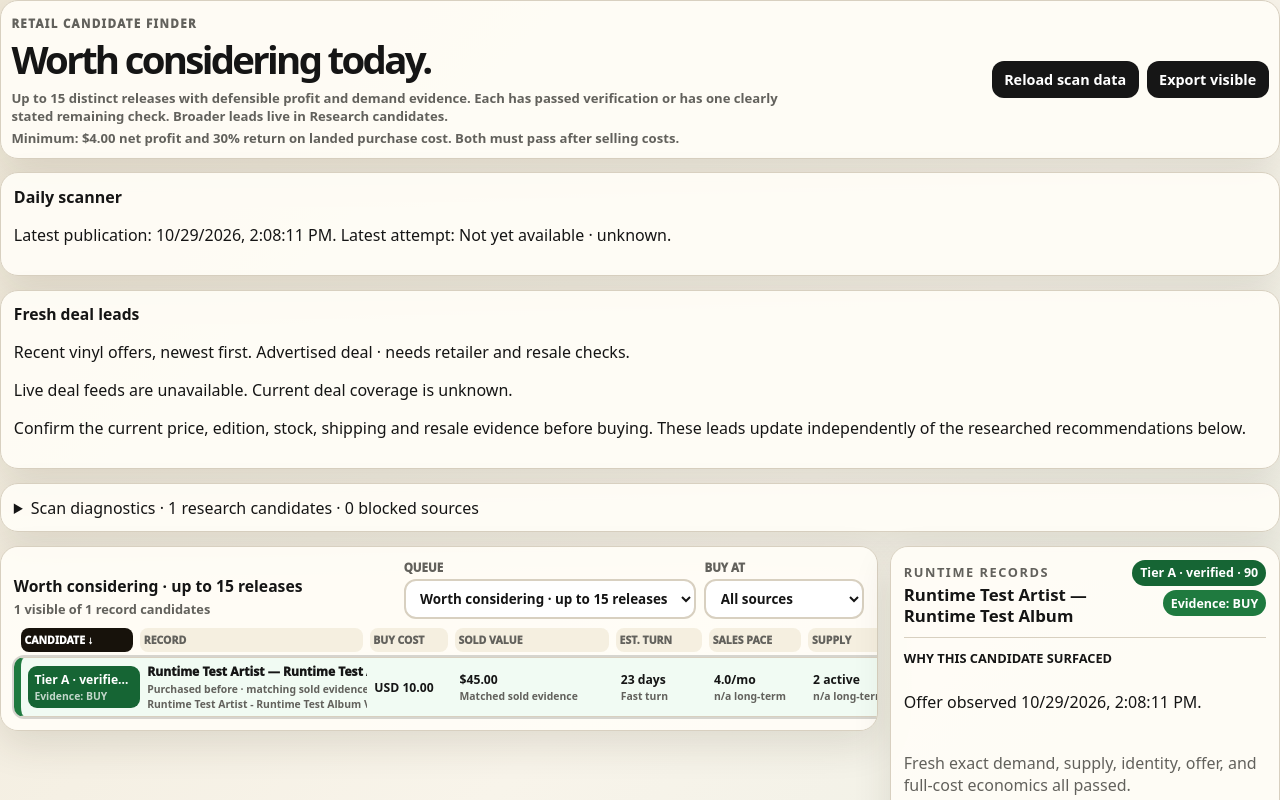
Test: arbitrage pages › keeps the last verified retail publication when a refresh fails
The width and height of the screenshot is (1280, 800).
Click the button "Reload scan data" at coordinates (1065, 79), box x1=992 y1=61 x2=1139 y2=98
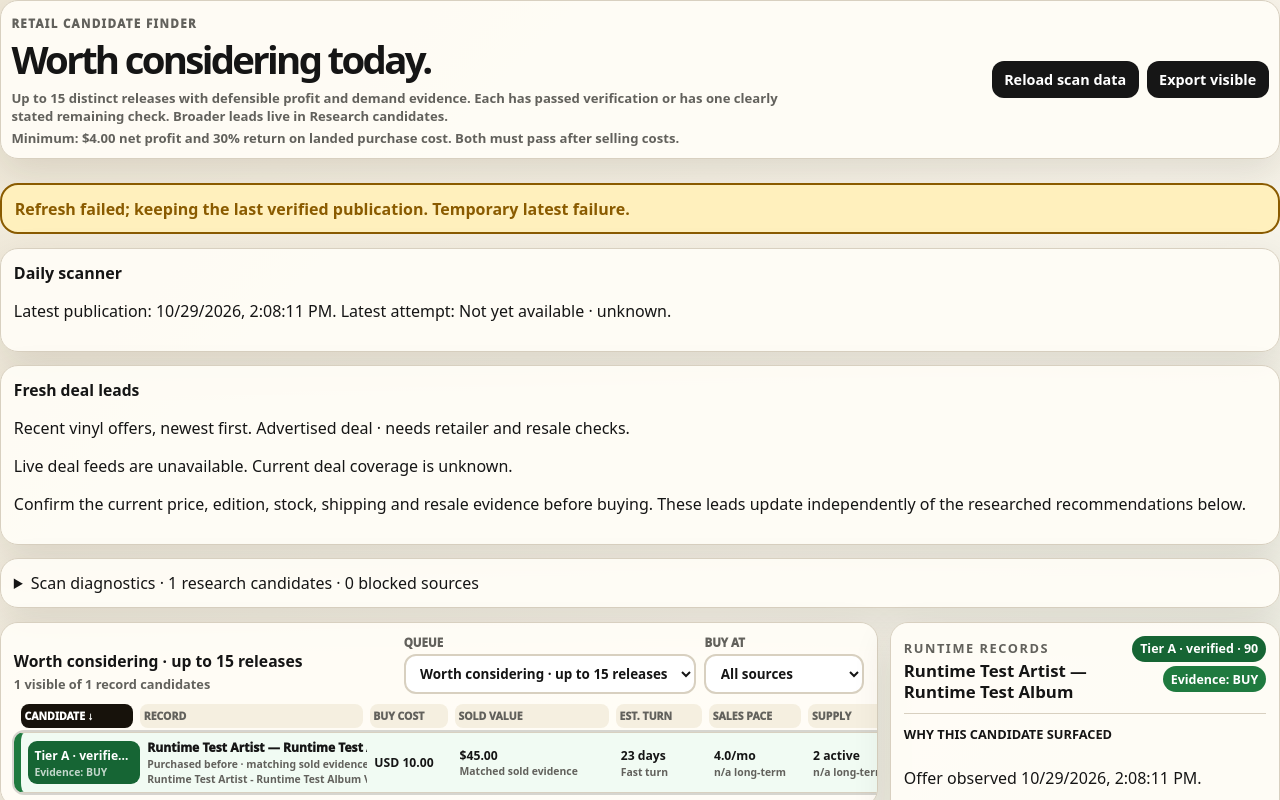
Expected: the text "Runtime Test Album" is shown, x1=147 y1=739 x2=367 y2=756
Expected: the text "keeping the last verified publication" is shown, x1=15 y1=198 x2=630 y2=220
